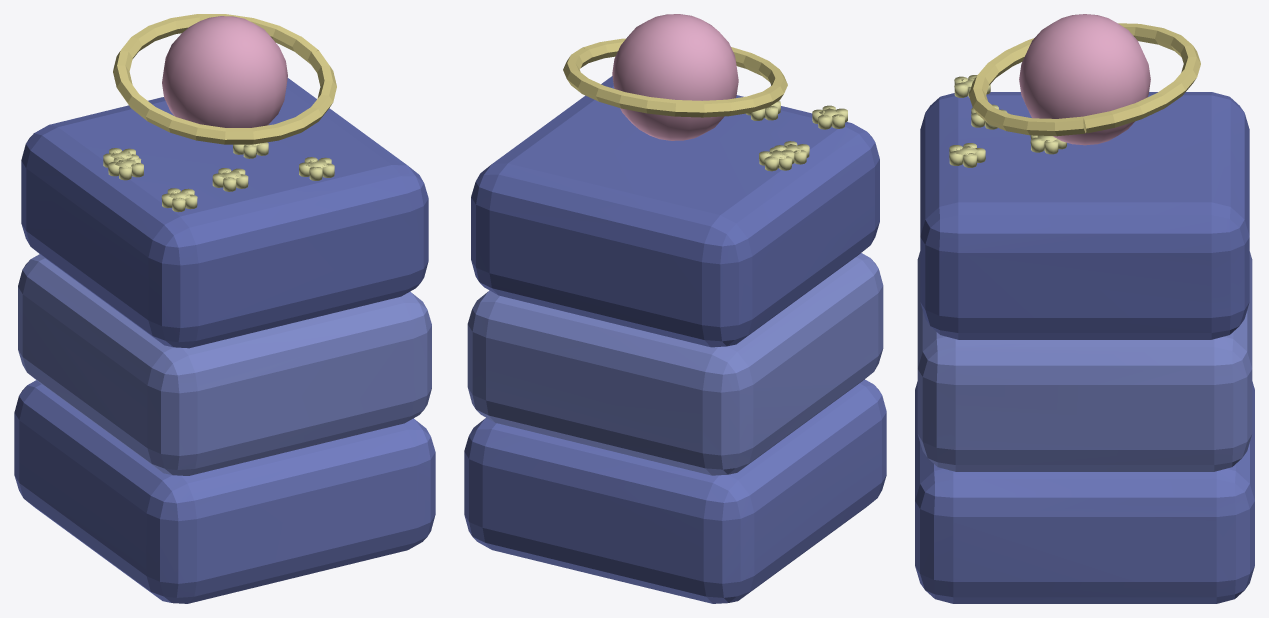
The model's file is gym_wall_cosmos_lite.glb.
The picture shows the model from 3 angles, left to right: view 1: azimuth 30°, elevation 25°; view 2: azimuth 150°, elevation 25°; view 3: azimuth 270°, elevation 25°; orthographic projection. The views are drawn at different scales.
Visible parts, largest first — view 1: Cube; view 2: Cube; view 3: Cube.
Boxes of the visible parts, x1,y1,x2,y2 form: Cube: (14, 14, 435, 603); Cube: (464, 14, 886, 603); Cube: (915, 14, 1254, 603).
Bounding box in the file's own units: 1.96 × 3.34 × 1.96.
